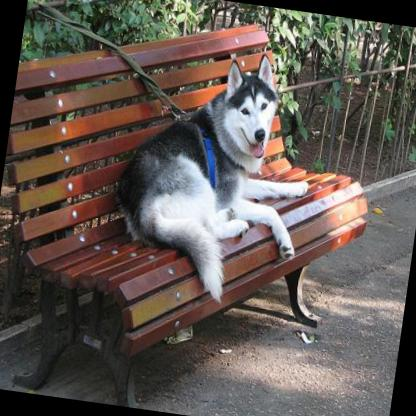Eskimo_dog: (101, 34, 325, 315)
